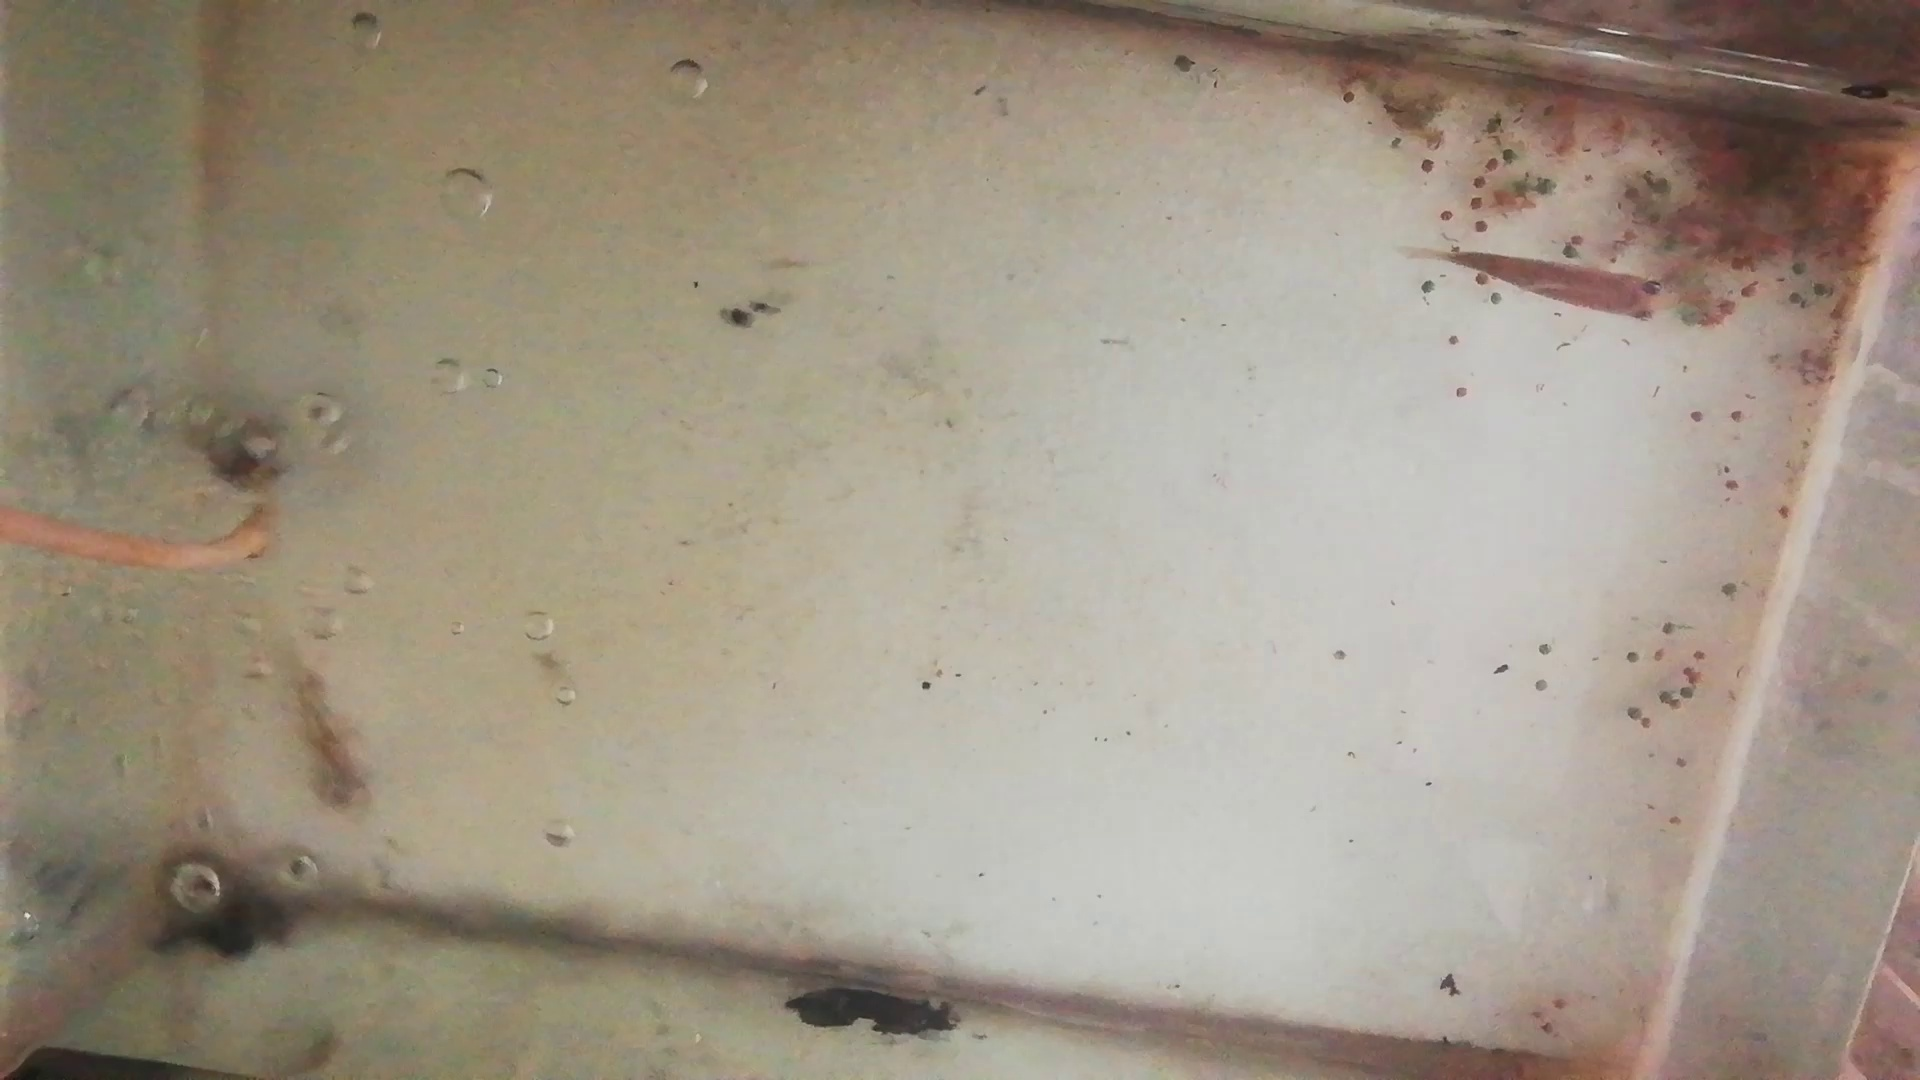fish: (1443, 247, 1668, 327), (280, 646, 375, 814)
